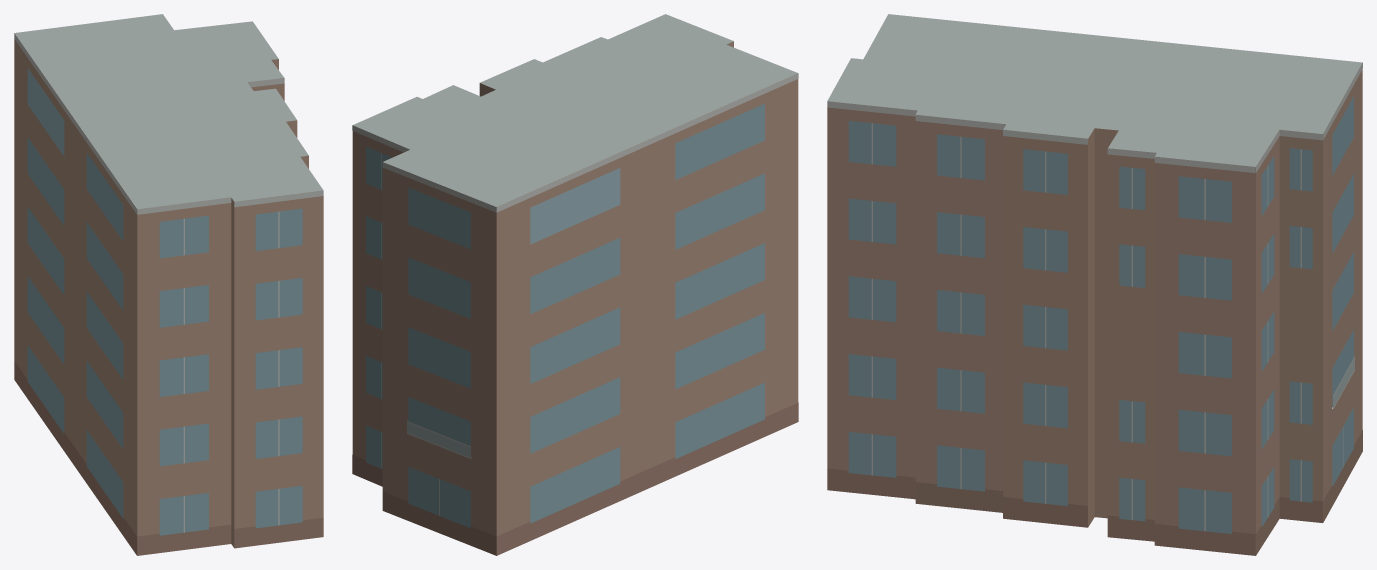
File: survey-upis-32985853.glb
The picture shows the model from 3 angles, left to right: view 1: azimuth 30°, elevation 25°; view 2: azimuth 150°, elevation 25°; view 3: azimuth 270°, elevation 25°; orthographic projection. The views are drawn at different scales.
Visible parts, largest first — view 1: survey-upis-32985853.tmp; view 2: survey-upis-32985853.tmp; view 3: survey-upis-32985853.tmp.
Boxes of the visible parts, x1,y1,x2,y2 form: survey-upis-32985853.tmp: (14,14,323,555); survey-upis-32985853.tmp: (352,14,798,555); survey-upis-32985853.tmp: (827,14,1362,555).
Bounding box in the file's own units: 12.87 × 15.25 × 19.04.
